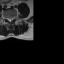CCS_normal: (9, 16, 10, 22)
LFS_normal: (12, 15, 13, 21)
LLS_normal: (10, 16, 12, 22)
RFS_normal: (6, 15, 7, 21)
RLS_normal: (7, 16, 9, 22)
